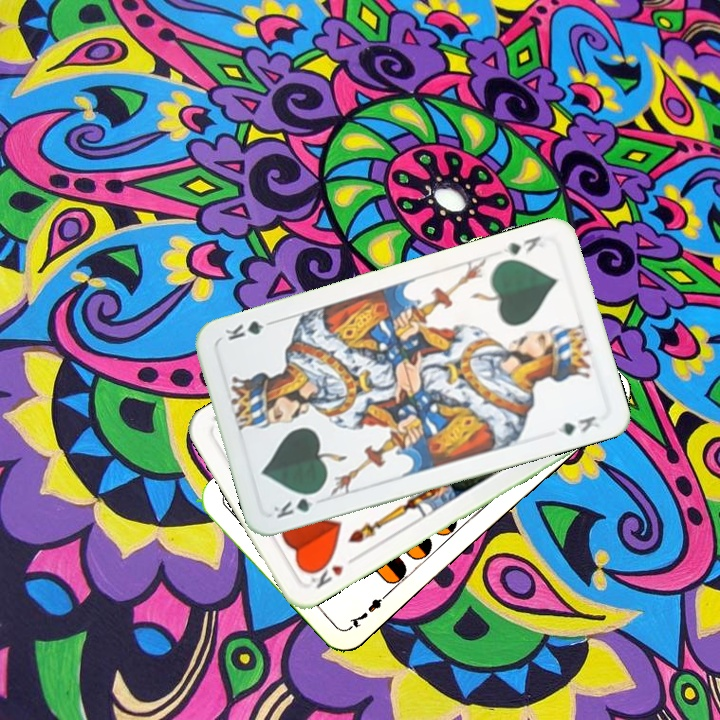E7: (345, 587, 393, 632)
GK: (269, 487, 323, 521), (499, 232, 543, 259)
HK: (303, 552, 359, 591)
